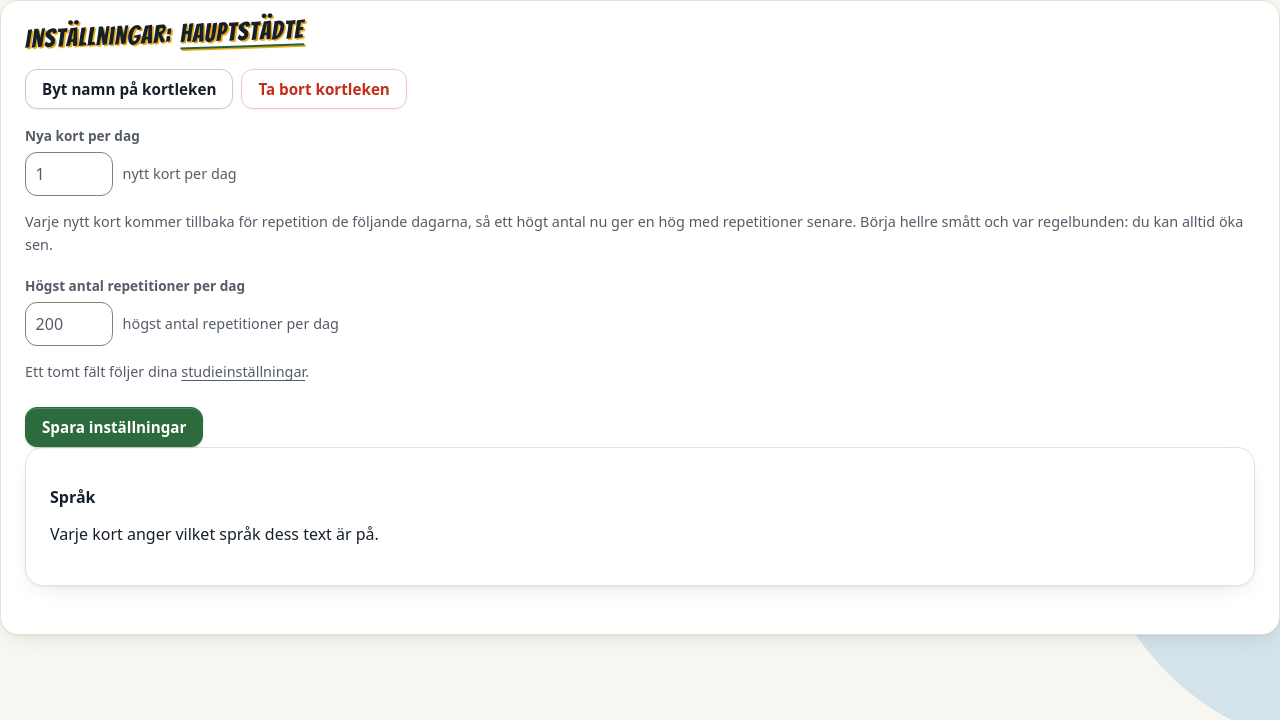
Test: DeckPreferencesScreen › edits first the name the reader sees, marked with its language
The image size is (1280, 720).
Click the button "Byt namn på kortleken" at (129, 89), box top-left (25, 69), bottom-right (233, 109)
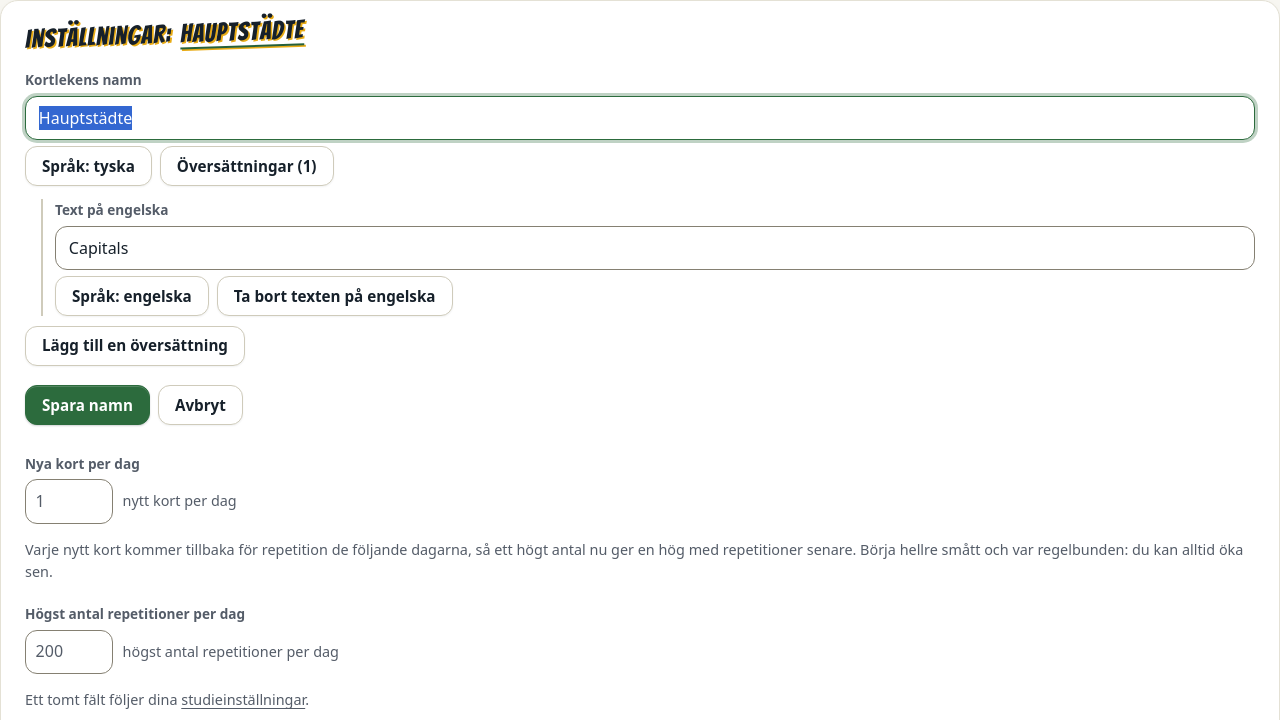
Now the field labelled "Kortlekens namn" holds "Hauptstädte", box top-left (25, 96), bottom-right (1255, 140)
